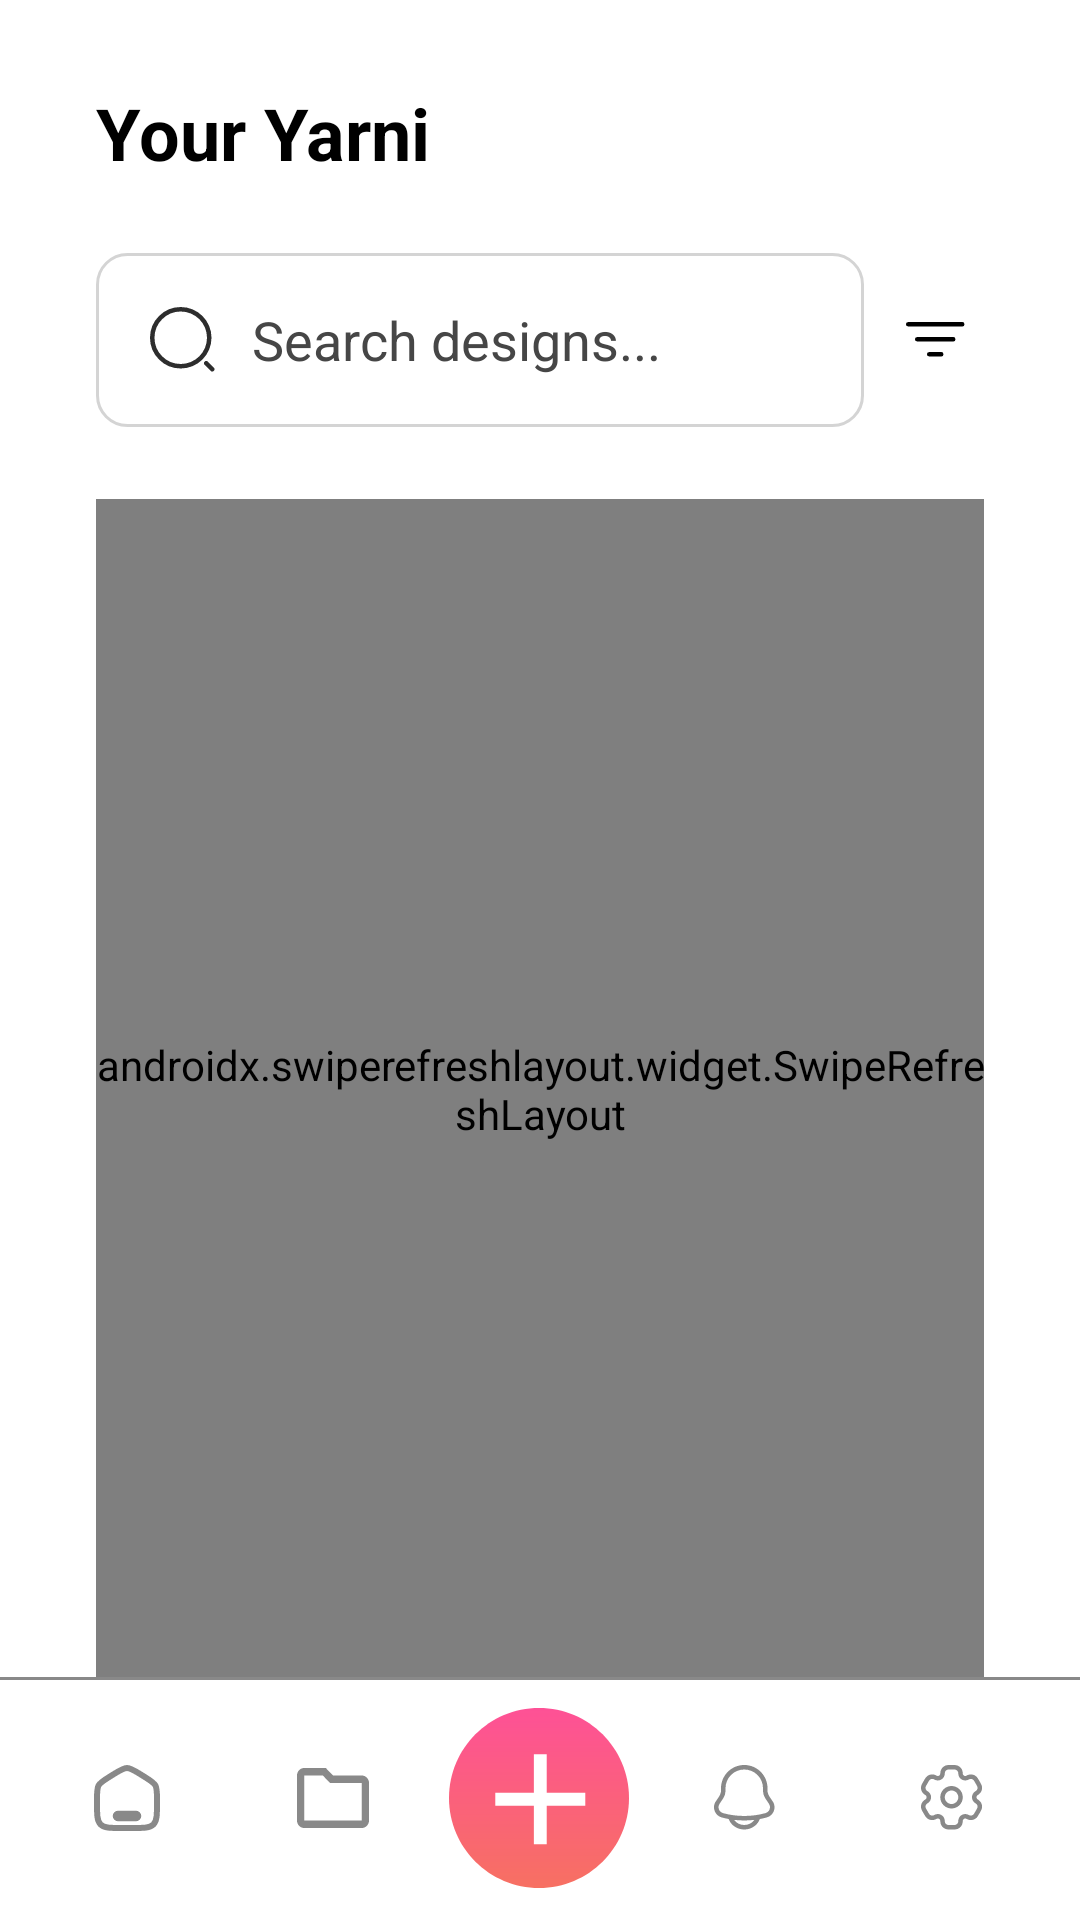

Point at icon controls on the screen. Image size 1080 x 1920, points as point (x, y).
bell: point (744, 1797)
folder: point (333, 1798)
home: point (127, 1798)
plus: point (539, 1798)
settings: point (951, 1797)
sort: point (935, 339)
